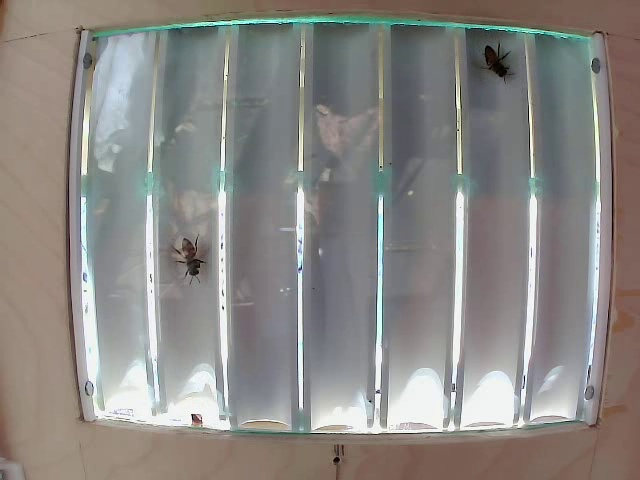bee: (170, 236, 212, 276), (479, 39, 502, 84)
